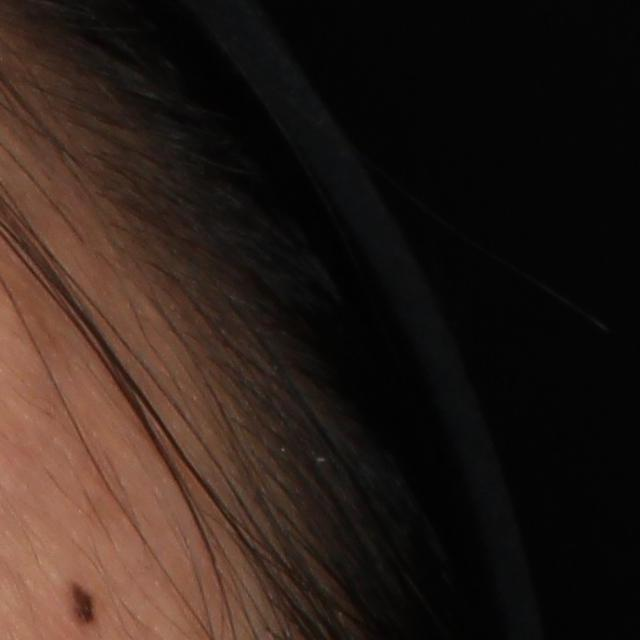nevus: (65, 577, 102, 623)
